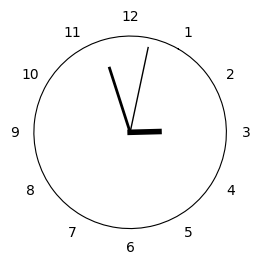12: (122, 9, 139, 23)
circle: (34, 36, 227, 228)
hours: (127, 129, 162, 135)
minutes: (108, 67, 130, 128)
seconds: (131, 47, 149, 129)
